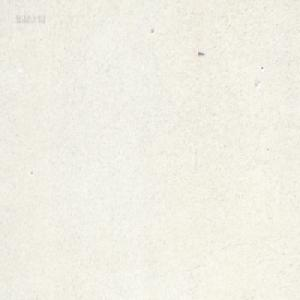Nail: (197, 51, 204, 56)
